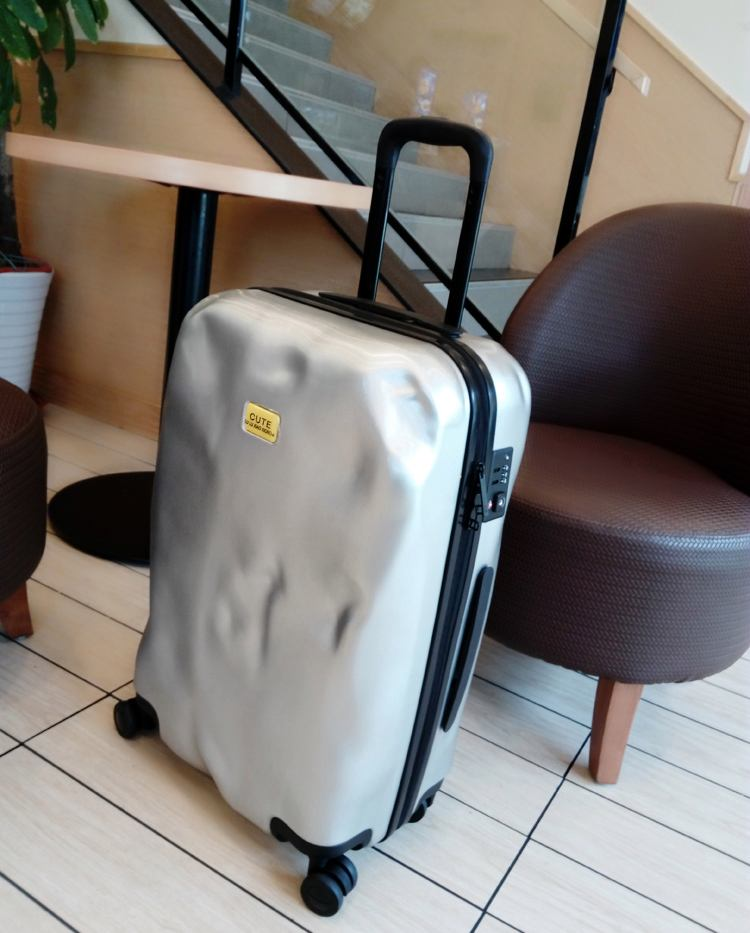box: (134, 287, 533, 849)
handle: (438, 565, 494, 732), (317, 291, 463, 339)
lock: (483, 445, 513, 524)
wheel: (299, 853, 358, 918), (113, 697, 152, 742)
